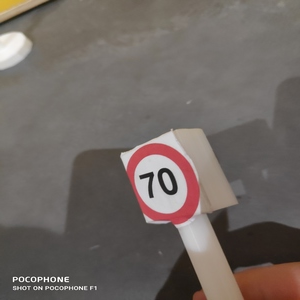70-bord: (125, 142, 202, 224)
